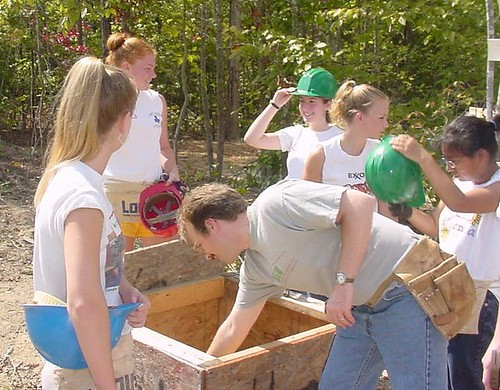hardhat: (10, 300, 144, 374), (367, 132, 430, 213), (138, 180, 189, 241)
person hardhat: (247, 67, 339, 187)
